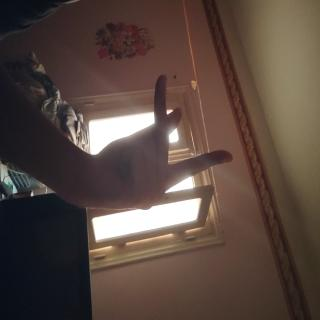DHAA: (47, 112, 164, 310)
